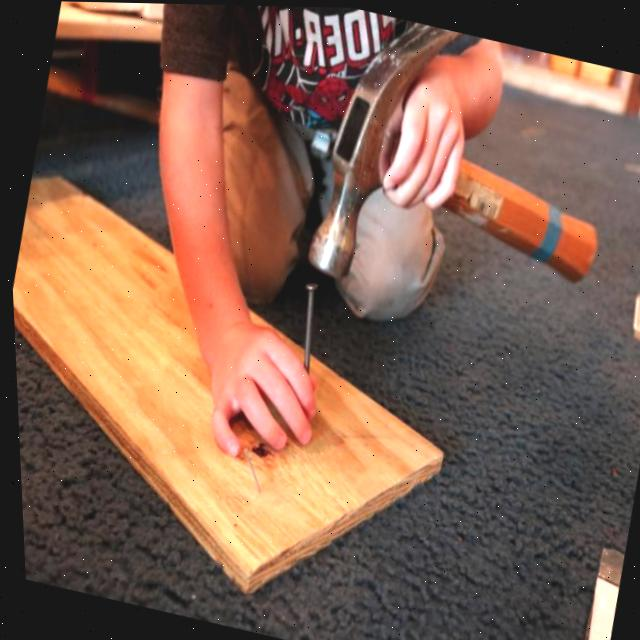hammer: (281, 5, 640, 344)
